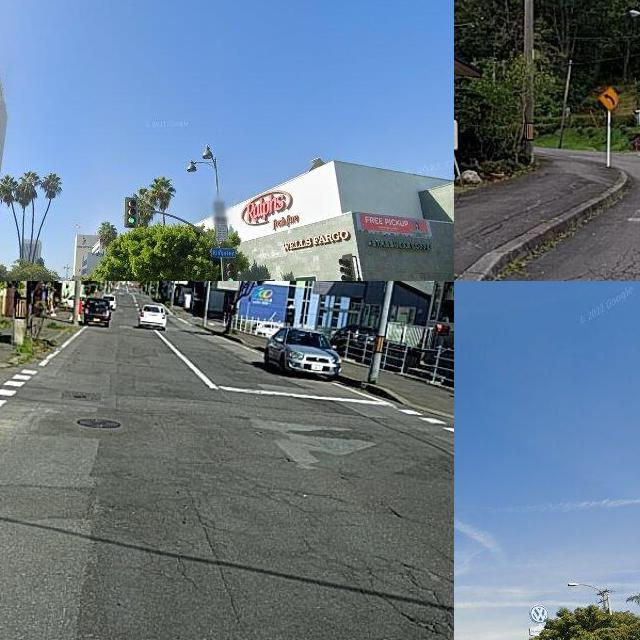Sambungan: (0, 427, 108, 640)
